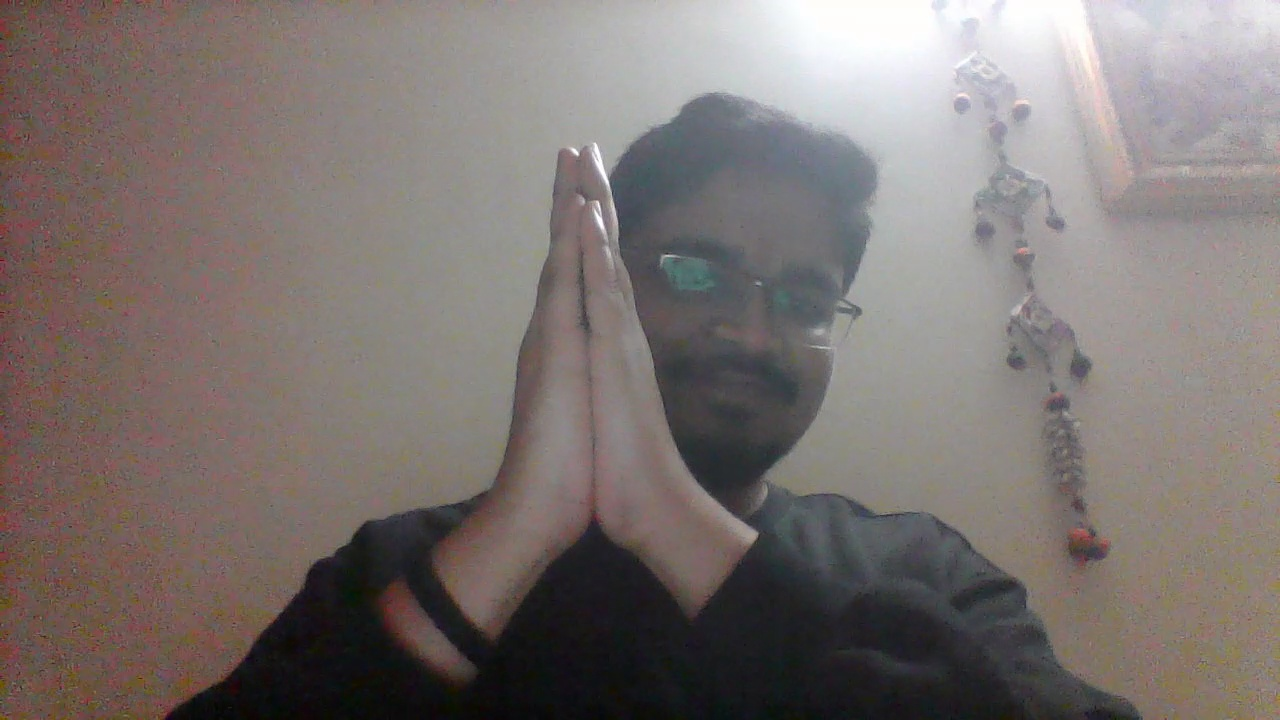Namaste: (463, 140, 682, 568)
